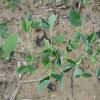Soyabean leaf: (2, 33, 19, 53), (69, 9, 81, 26), (38, 79, 50, 95), (49, 14, 56, 29), (25, 20, 32, 34), (56, 34, 64, 46), (28, 64, 36, 75), (40, 23, 50, 30), (33, 21, 40, 31), (44, 39, 49, 49)
